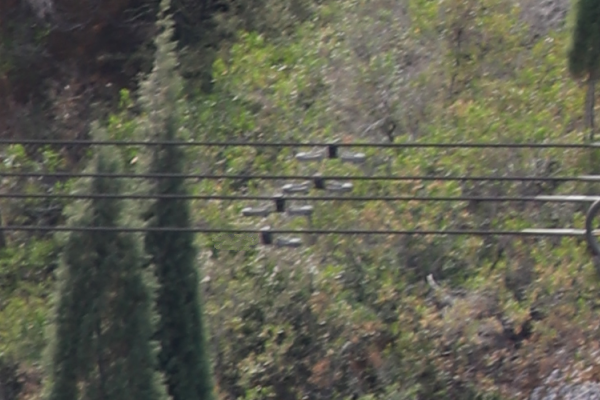damper: (239, 190, 315, 219), (291, 138, 367, 164), (279, 170, 354, 194)
damper_defect: (247, 224, 304, 249)
